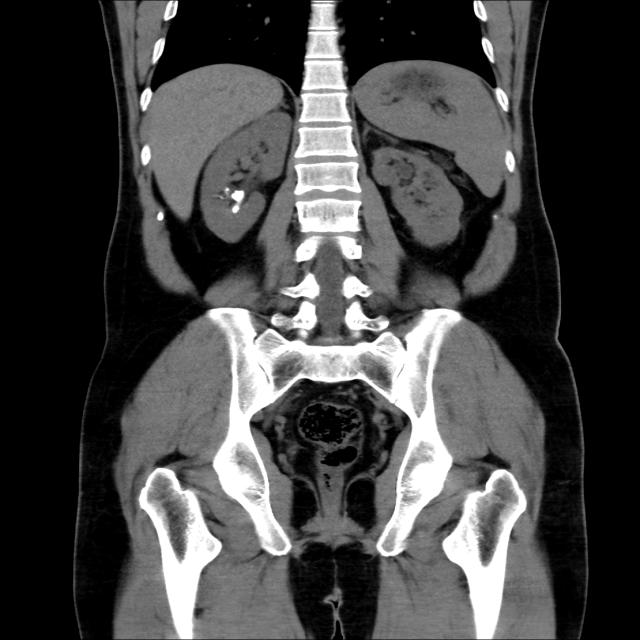kidneystone: (231, 190, 245, 205)
